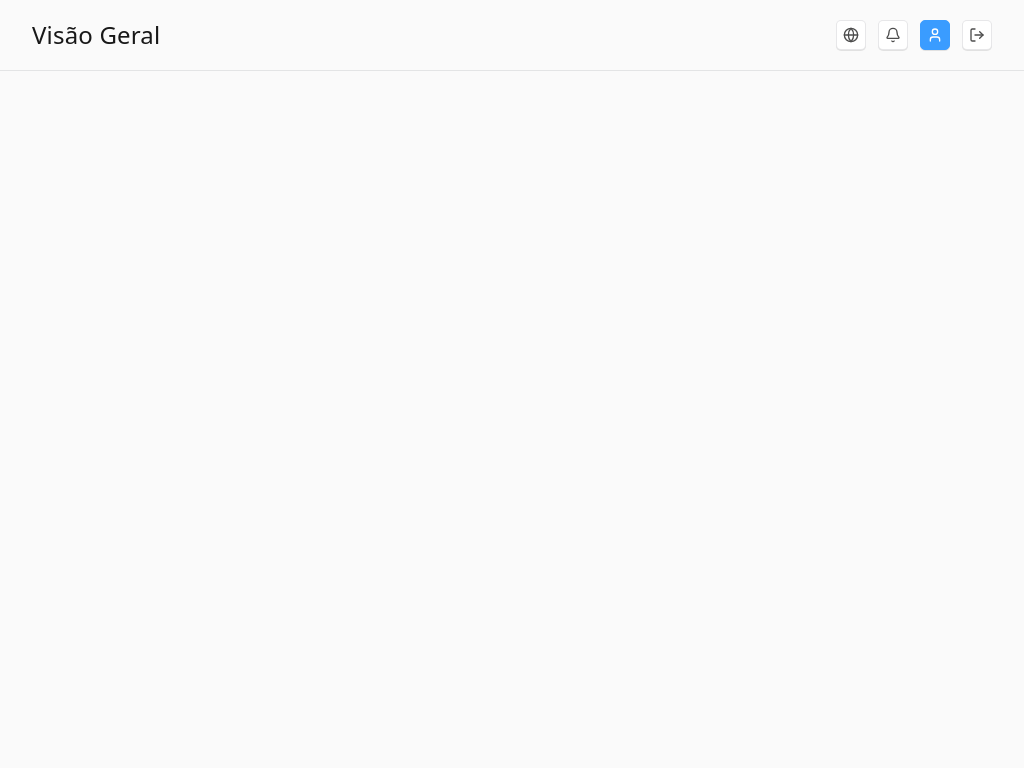
Test: Header component › keeps the language popover closed by default and opens it on Globe click
Check: the dialog "escolha um idioma" is not shown
Click the button named "selecionar idioma": coordinates (851, 35) [836,20,866,50]
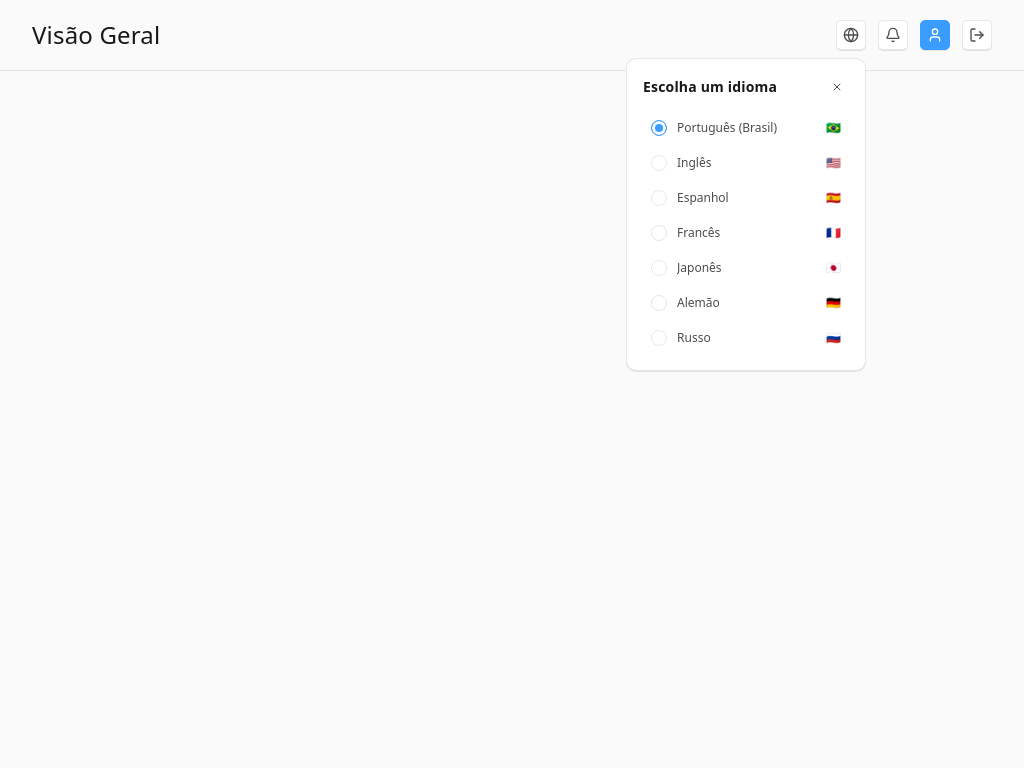
Check: the dialog "Escolha um idioma" is shown, box [626,58,866,371]
